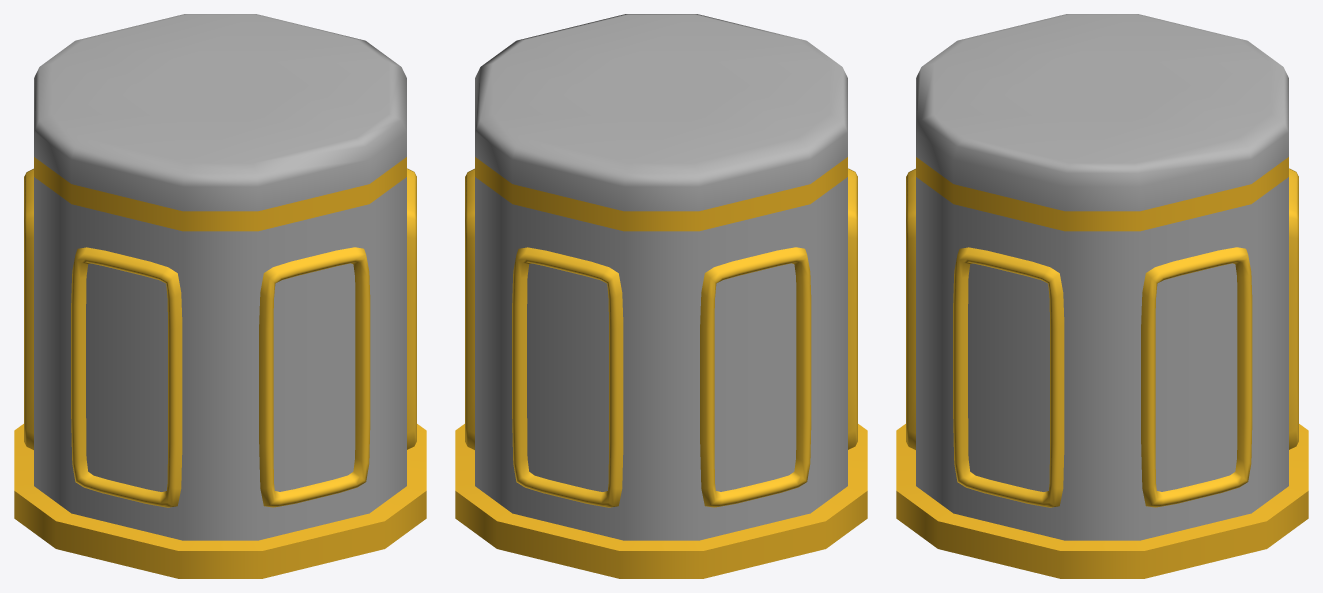
The model's file is Buc 1.fbx.
3 renders of one model, left to right at view 1: azimuth 30°, elevation 25°; view 2: azimuth 150°, elevation 25°; view 3: azimuth 270°, elevation 25°, orthographic.
Visible parts, largest first — view 1: Buc; view 2: Buc; view 3: Buc.
Part boxes in pixels (<box>): Buc: <box>14,14,426,578</box>; Buc: <box>455,14,867,578</box>; Buc: <box>896,14,1308,578</box>.
Bounding box in the file's own units: 408 × 420 × 393.
